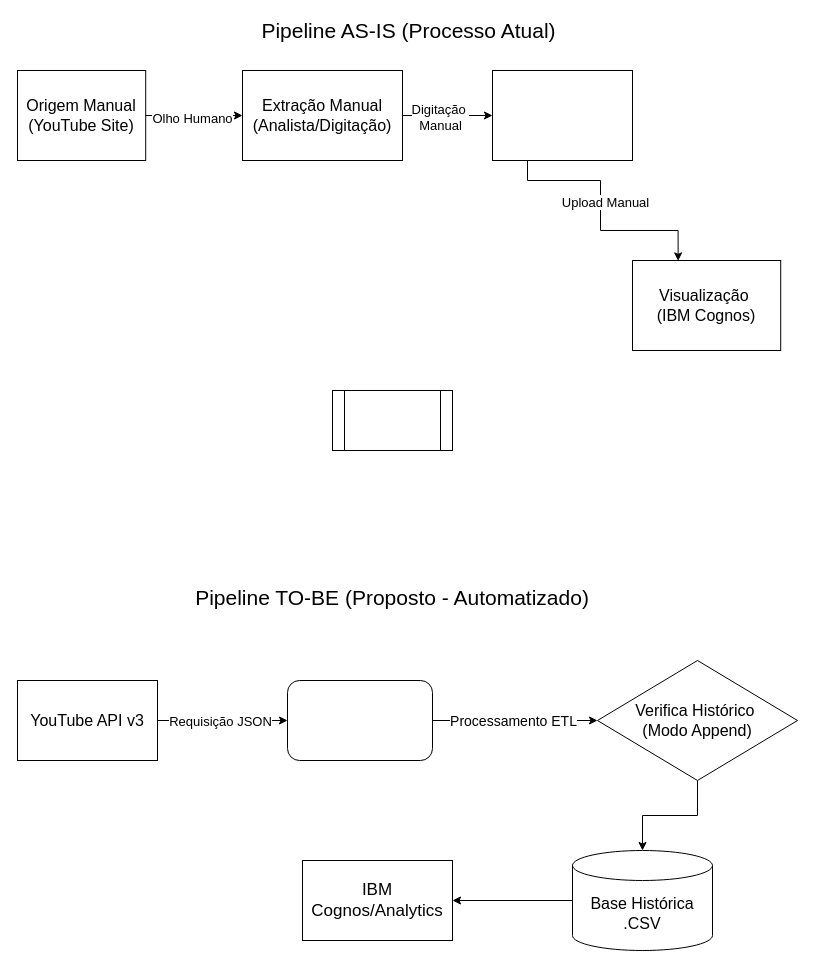
The diagram is 815 pixels wide and 968 high, and some of its shapes have lost their labels. The centre of each missing label's shape, as x and y in pixels:
Armazenamento (Planilha Excel): the point at 562,115
Script Python (ETL).: the point at 359,720
VS: the point at 392,420
